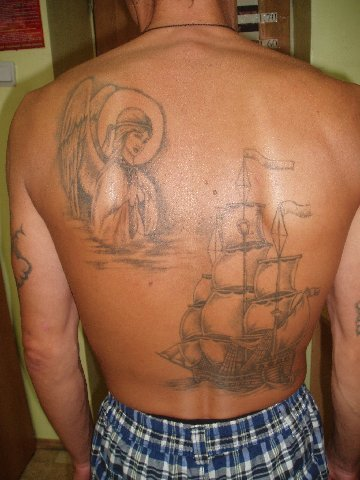tatu1_angel: (53, 77, 176, 260)
